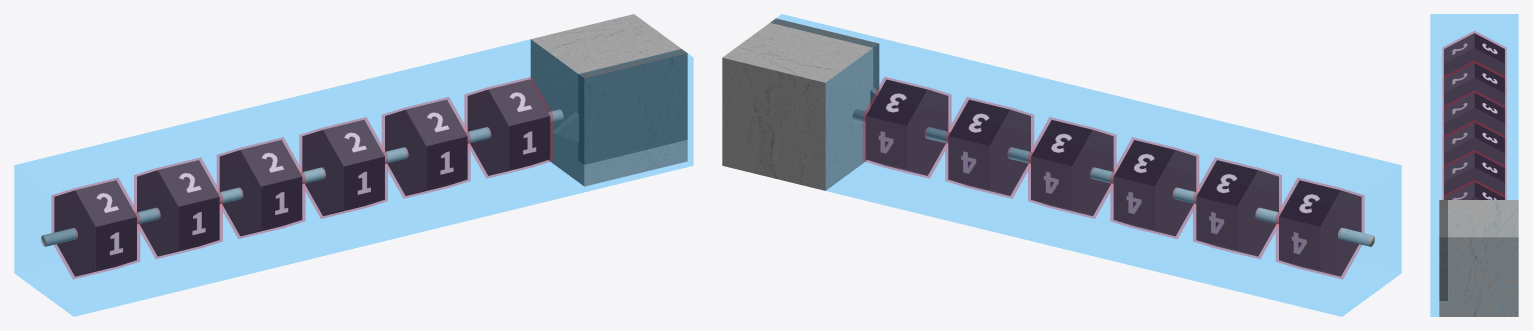
Rendered from Hexagons.fbx.
3 views of the same model, side by side, from view 1: azimuth 30°, elevation 25°; view 2: azimuth 150°, elevation 25°; view 3: azimuth 270°, elevation 25° (orthographic). The views are drawn at different scales.
Parts seen in each view (by area): view 1: Solid, Base, Door, IN, IN.002, IN.004, IN.001, IN.003, IN.005, H5, H2, H4 (+5 smaller); view 2: Solid, Base, IN, IN.002, IN.004, IN.001, IN.003, IN.005, H5, H2, H4, H1 (+4 smaller); view 3: Solid, Base, IN.002, IN, IN.004, IN.001, IN.003, H0, H1, H3, H2, H4 (+3 smaller).
Part boxes in pixels (bbox=[...]): Solid: bbox=[14, 39, 693, 316]; Base: bbox=[530, 14, 687, 186]; Door: bbox=[578, 49, 687, 164]; IN: bbox=[51, 178, 139, 278]; IN.002: bbox=[217, 137, 305, 238]; IN.004: bbox=[382, 97, 470, 198]; IN.001: bbox=[134, 157, 222, 258]; IN.003: bbox=[299, 117, 387, 218]; IN.005: bbox=[464, 77, 552, 178]; H5: bbox=[467, 79, 550, 175]; H2: bbox=[219, 140, 302, 235]; H4: bbox=[385, 99, 467, 195]; Solid: bbox=[772, 14, 1401, 316]; Base: bbox=[722, 23, 873, 190]; IN: bbox=[1276, 178, 1364, 278]; IN.002: bbox=[1110, 137, 1198, 238]; IN.004: bbox=[945, 97, 1033, 198]; IN.001: bbox=[1193, 157, 1281, 258]; IN.003: bbox=[1028, 117, 1116, 218]; IN.005: bbox=[863, 77, 951, 178]; H5: bbox=[865, 79, 948, 175]; H2: bbox=[1113, 140, 1196, 235]; H4: bbox=[948, 99, 1030, 195]; H1: bbox=[1196, 160, 1278, 256]; Solid: bbox=[1430, 14, 1518, 316]; Base: bbox=[1439, 200, 1518, 316]; IN.002: bbox=[1442, 90, 1506, 136]; IN: bbox=[1442, 31, 1506, 76]; IN.004: bbox=[1442, 150, 1506, 195]; IN.001: bbox=[1442, 61, 1506, 106]; IN.003: bbox=[1442, 120, 1506, 165]; H0: bbox=[1444, 33, 1504, 78]; H1: bbox=[1444, 63, 1504, 108]; H3: bbox=[1444, 122, 1504, 167]; H2: bbox=[1444, 93, 1504, 137]; H4: bbox=[1444, 152, 1504, 197].
Bounding box in the file's own units: 6 × 1 × 1.
